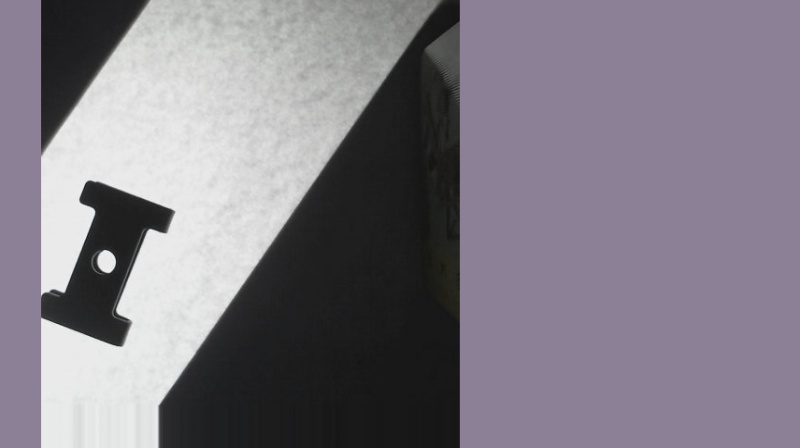O002: (41, 176, 176, 341)
